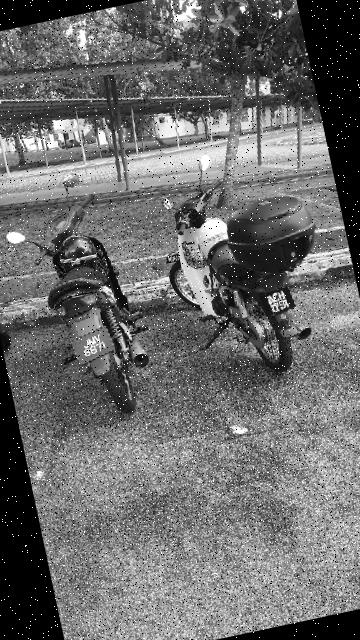License_Plate: (69, 325, 123, 369), (257, 287, 298, 321)
motorcycle: (143, 133, 347, 393), (1, 166, 166, 432)
